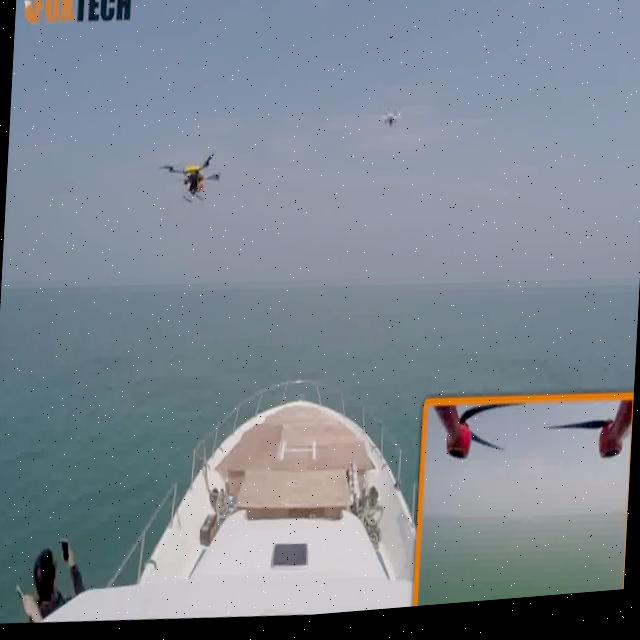drone: (146, 139, 226, 239), (351, 100, 412, 147)
